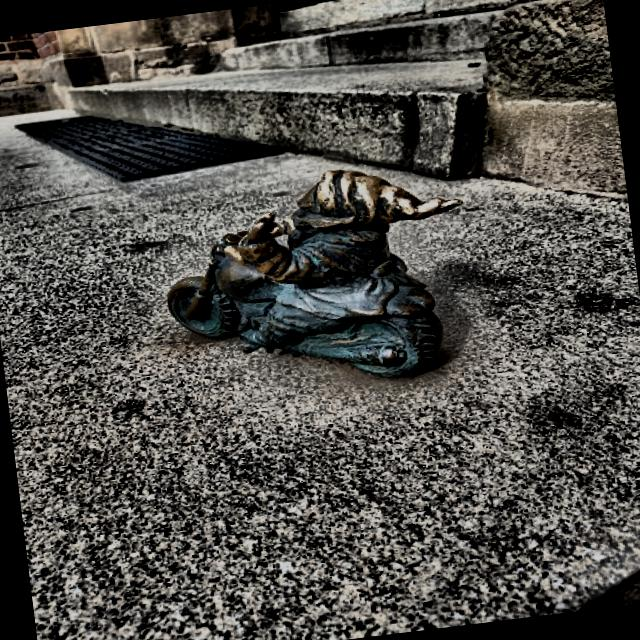Wentyl: (167, 170, 461, 374)
